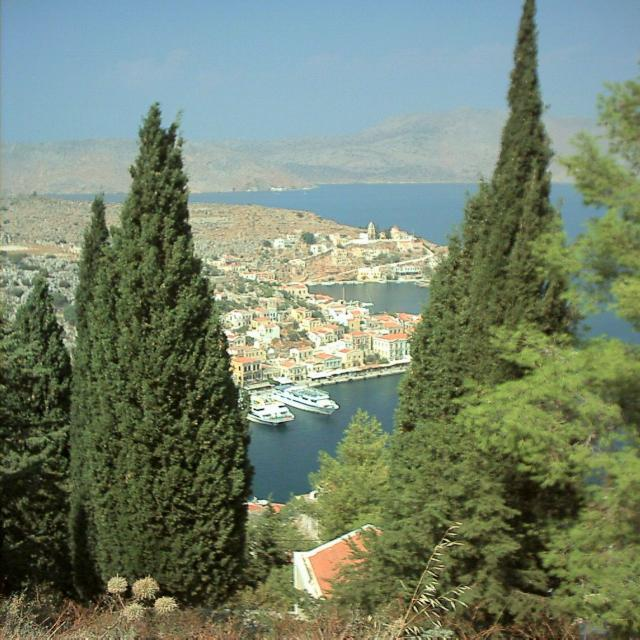cipres: (373, 0, 588, 618), (79, 100, 253, 610), (1, 268, 70, 603), (76, 182, 108, 357)
